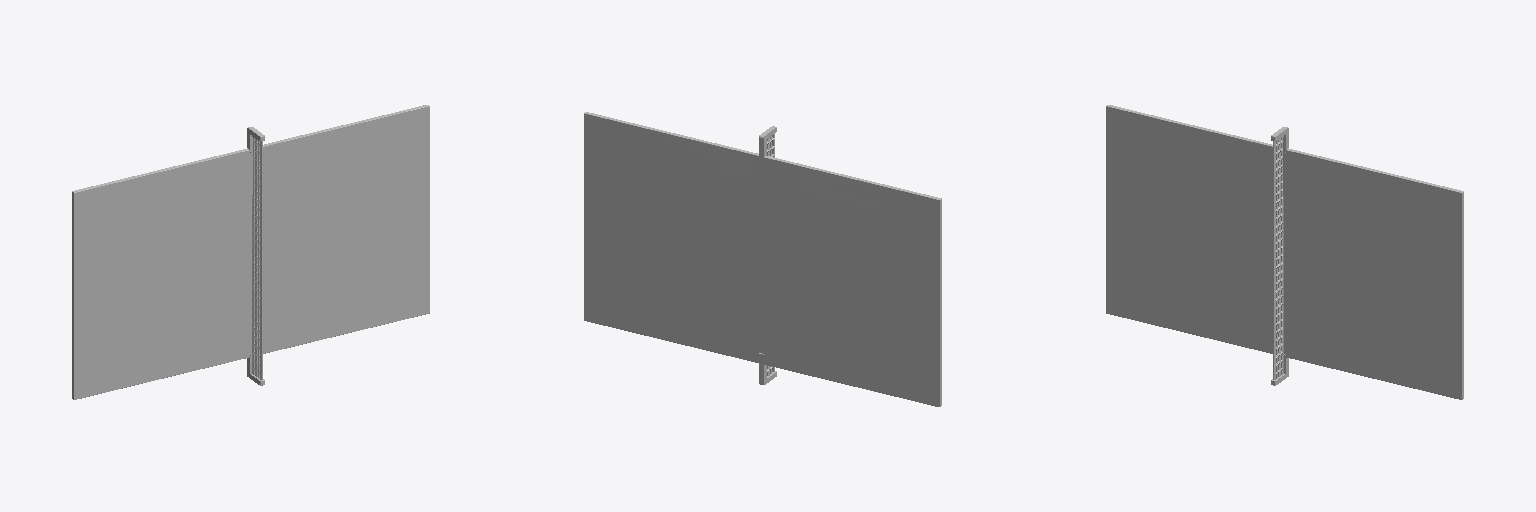
The model's file is 15582_Table_Tennis_Table_v2_NEW.obj.
3 views of the same model, side by side, from view 1: azimuth 30°, elevation 25°; view 2: azimuth 150°, elevation 25°; view 3: azimuth 330°, elevation 25° (orthographic).
Visible parts, largest first — view 1: Object001; view 2: Object001; view 3: Object001.
Boxes of the visible parts, box(x1,y1,x2,y2) form: Object001: box(72, 105, 429, 399); Object001: box(584, 112, 941, 406); Object001: box(1106, 105, 1463, 399).
Size of the model in its own units: 2.75 by 1.84 by 0.1832.